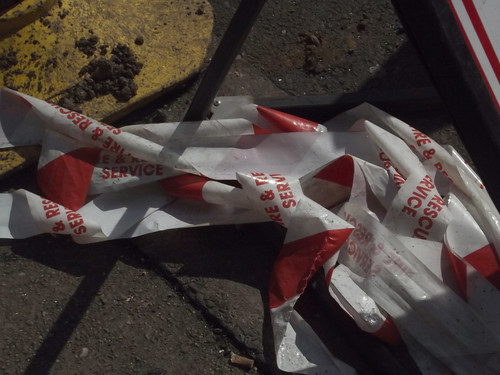trash: (1, 40, 495, 367)
